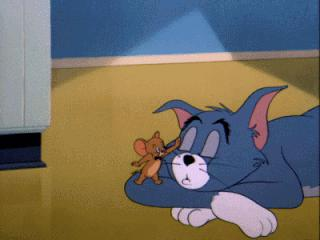jerry: (129, 130, 181, 186)
